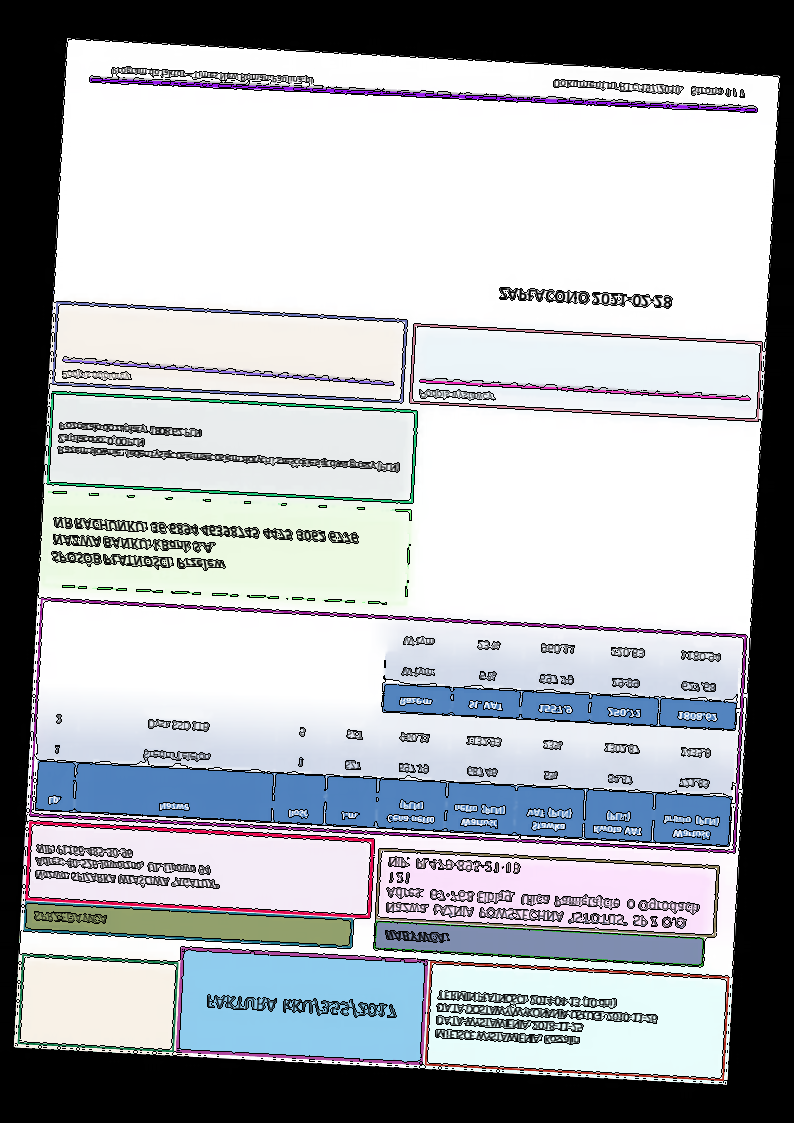Table: (33, 697, 736, 848), (381, 620, 743, 732)
TextBox: (382, 854, 702, 933), (48, 511, 360, 585), (55, 418, 405, 478), (433, 987, 659, 1055), (32, 842, 222, 892), (204, 990, 398, 1022), (108, 63, 316, 88), (551, 76, 750, 102), (497, 285, 674, 312), (30, 908, 112, 930), (417, 385, 498, 405), (58, 366, 133, 387), (382, 927, 452, 948)
